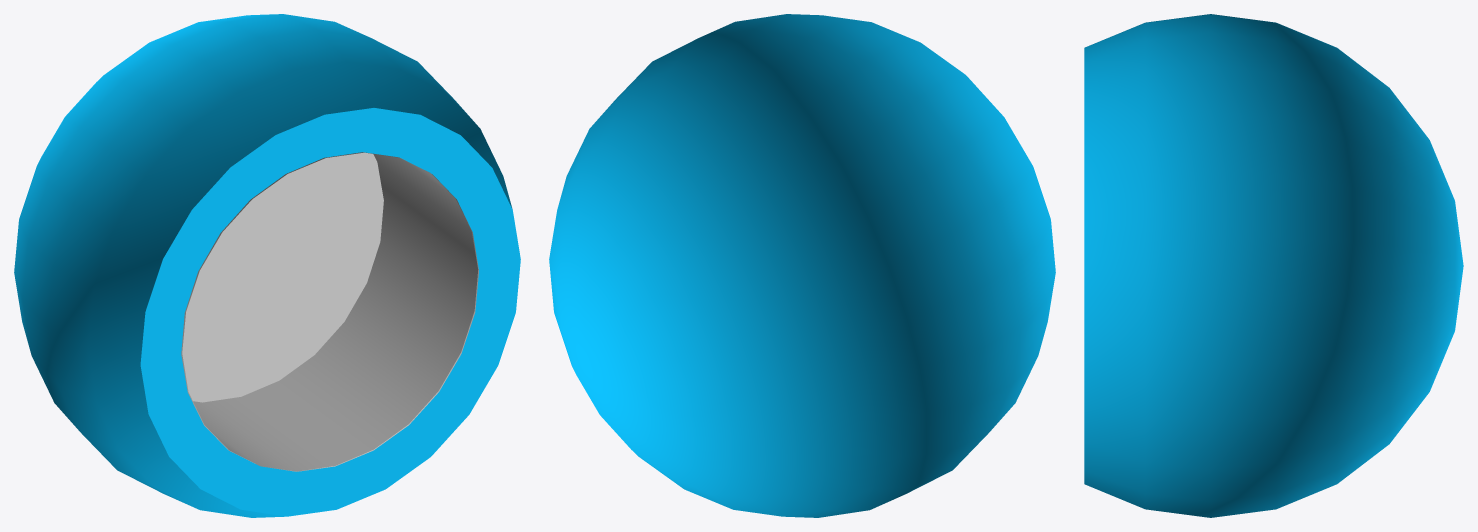
Rendered from model_scale.obj.
3 views of the same model, side by side, from view 1: azimuth 30°, elevation 25°; view 2: azimuth 150°, elevation 25°; view 3: azimuth 270°, elevation 25° (orthographic).
Parts seen in each view (by area): view 1: mesh1_mesh1-geometry; view 2: mesh1_mesh1-geometry; view 3: mesh1_mesh1-geometry.
Boxes of the visible parts, box(x1,y1,x2,y2) form: mesh1_mesh1-geometry: box(14, 14, 520, 517); mesh1_mesh1-geometry: box(549, 14, 1055, 517); mesh1_mesh1-geometry: box(1084, 14, 1463, 517).
Size of the model in its own units: 0.1388 by 0.1388 by 0.1038.
